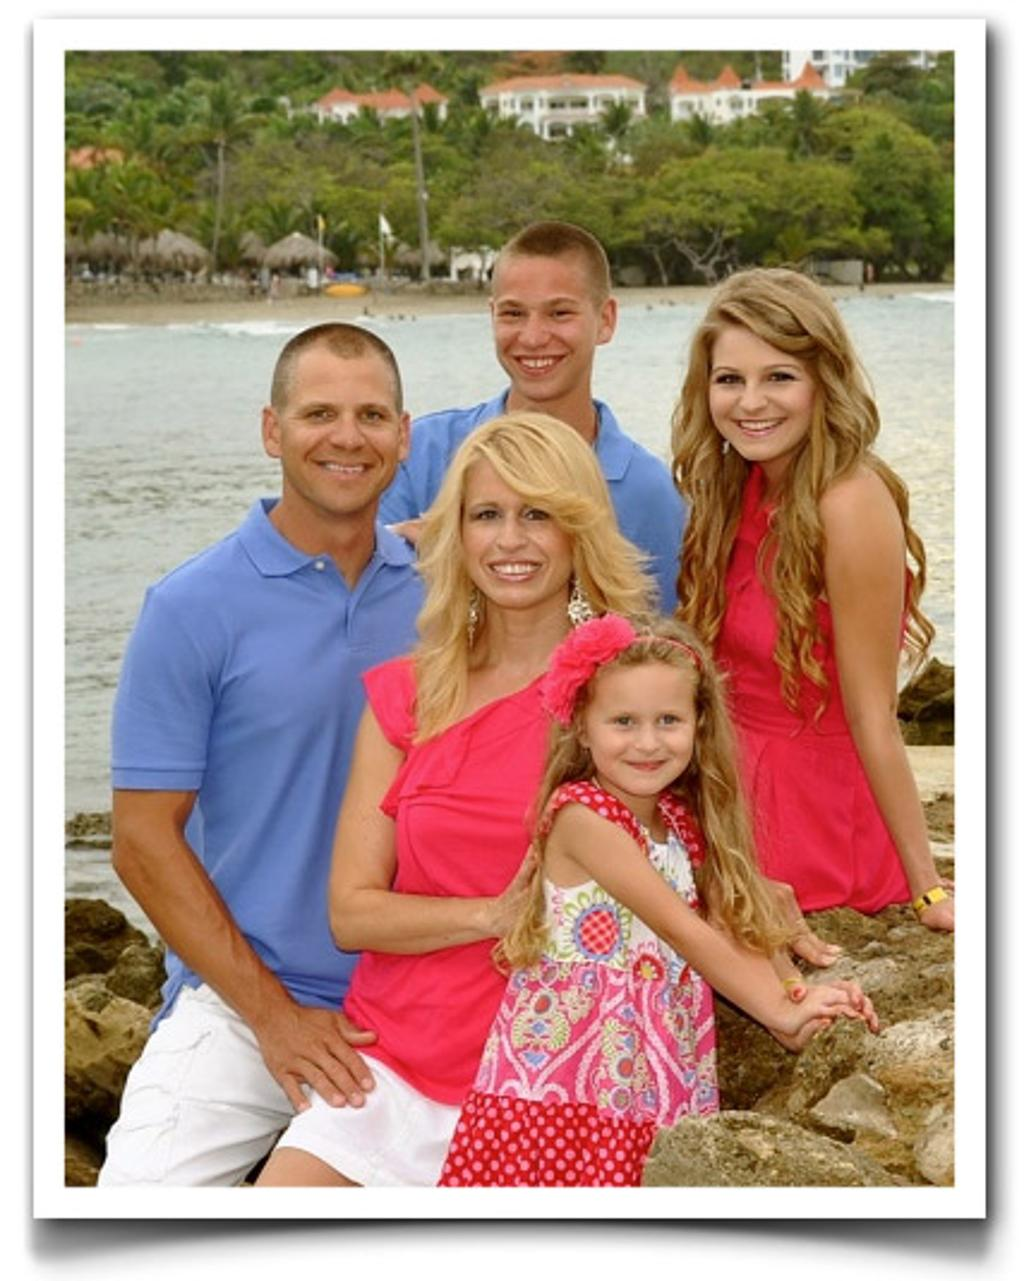face: (283, 346, 401, 514), (463, 456, 571, 606), (588, 661, 696, 791), (491, 263, 591, 401), (709, 328, 817, 456)
